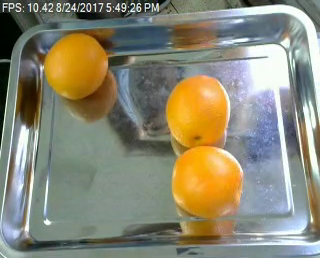Orange: (172, 145, 245, 217), (165, 74, 230, 148), (44, 31, 108, 100)
